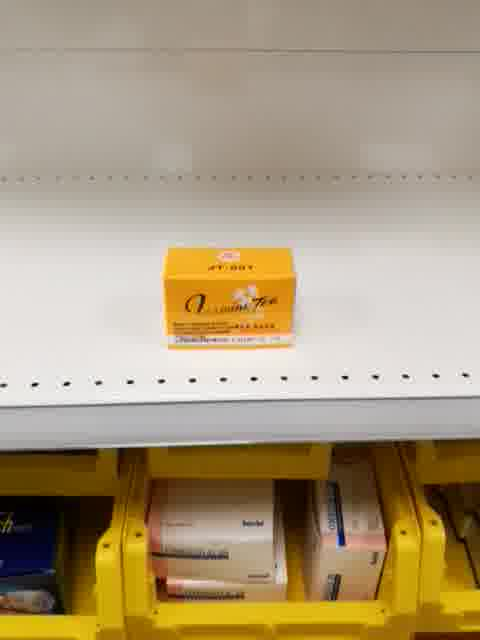jasminetea: (163, 246, 296, 352)
